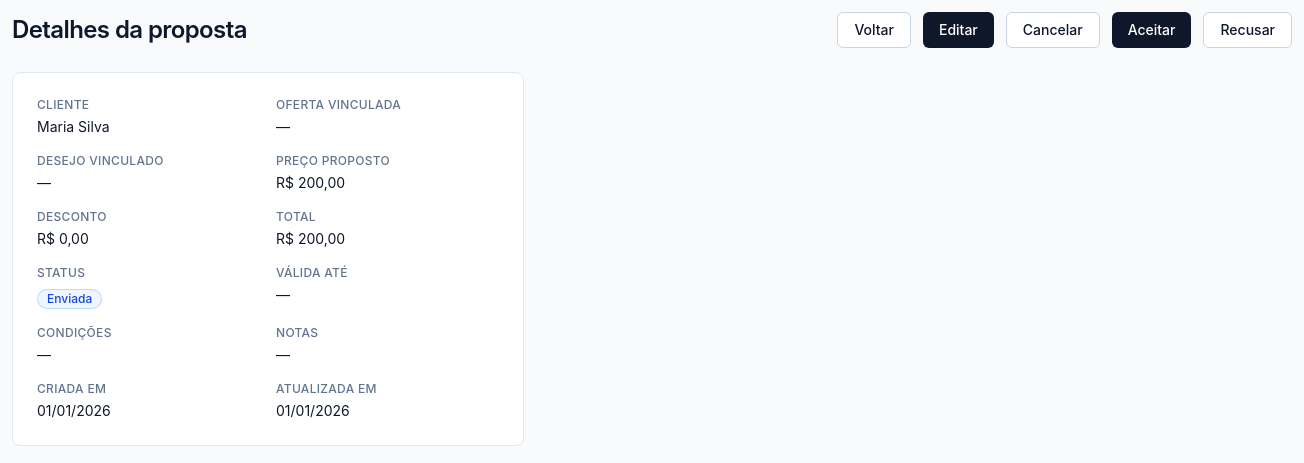
Scenario: ProposalDetailsPage › lifecycle actions › disables all lifecycle buttons while a mutation is pending
Check: the text "Maria Silva" is shown, box [37,118,110,135]
What coordinates should you click on to do the following:
click the button "Aceitar"
I would click on:
 (1152, 30)
Its box is [1112,12,1192,48].
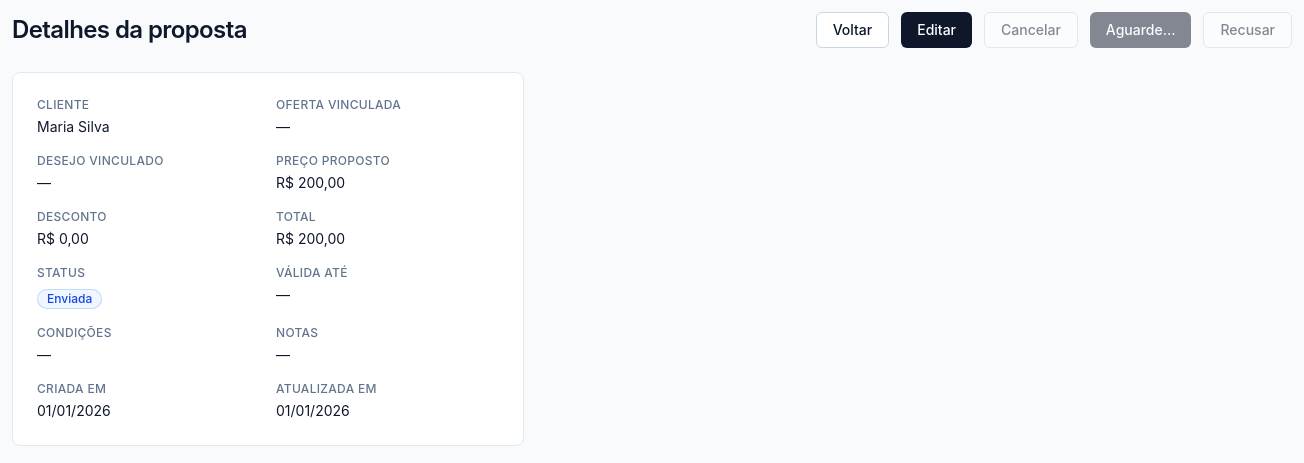
Check: the button "Aguarde..." is disabled, box [1090,12,1192,48]
Check: the button "Recusar" is disabled, box [1204,12,1292,48]
Check: the button "Cancelar" is disabled, box [984,12,1078,48]
